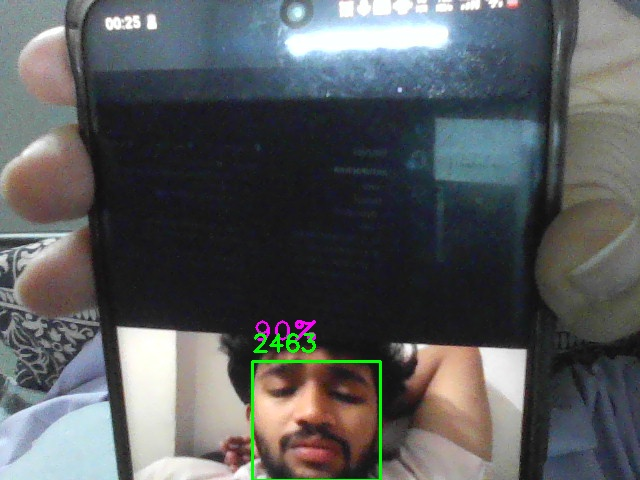fake: (252, 361, 381, 480)
